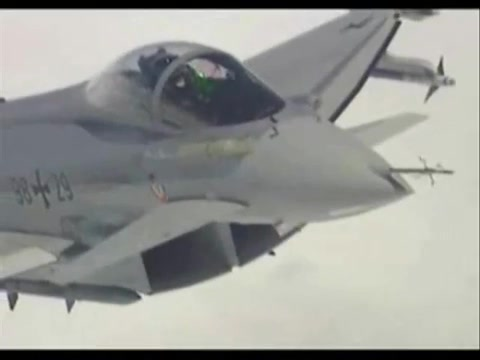aeroplane: (1, 11, 457, 313)
